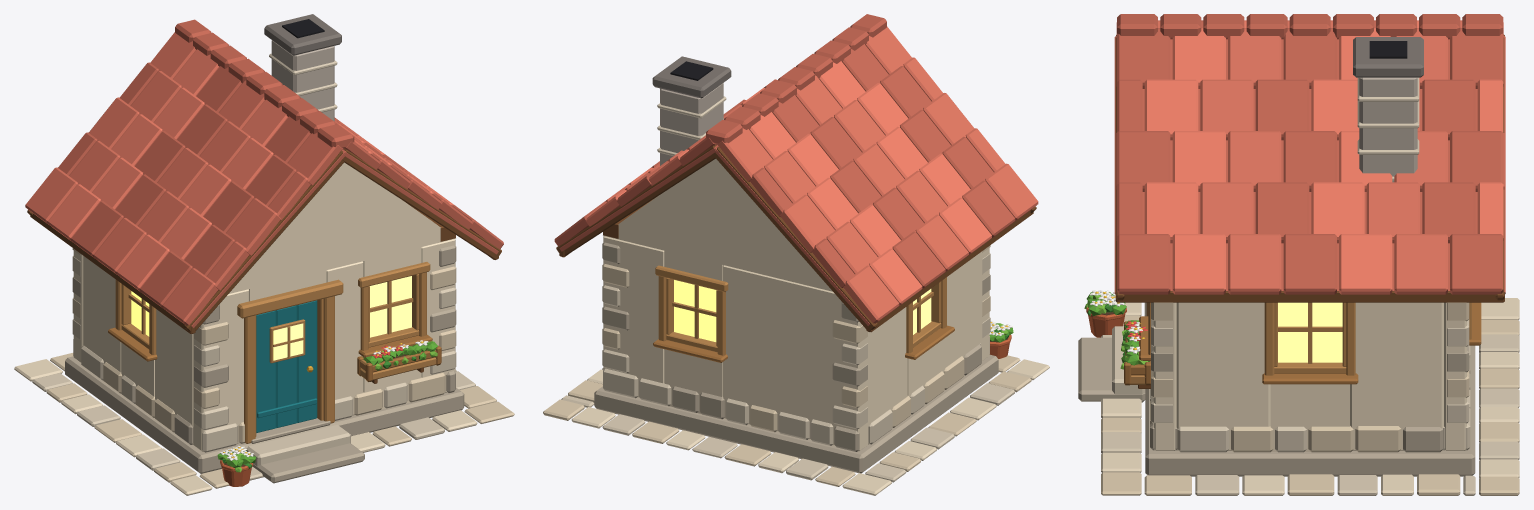
Rendered from cottage_exterior.glb.
3 views of the same model, side by side, from view 1: azimuth 30°, elevation 25°; view 2: azimuth 150°, elevation 25°; view 3: azimuth 270°, elevation 25° (orthographic). The views are drawn at different scales.
Visible parts, largest first — view 1: cottage_exterior_roof, cottage_exterior, part_door_leaf; view 2: cottage_exterior_roof, cottage_exterior; view 3: cottage_exterior_roof, cottage_exterior.
Boxes of the visible parts, left/top/right/bottom form: cottage_exterior_roof: left=25, top=14, right=503, bottom=333; cottage_exterior: left=14, top=239, right=514, bottom=495; part_door_leaf: left=256, top=300, right=317, bottom=432; cottage_exterior_roof: left=554, top=14, right=1038, bottom=332; cottage_exterior: left=543, top=236, right=1049, bottom=495; cottage_exterior_roof: left=1114, top=14, right=1505, bottom=302; cottage_exterior: left=1078, top=290, right=1519, bottom=495.
Bounding box in the file's own units: 4.41 × 4.16 × 4.22.
